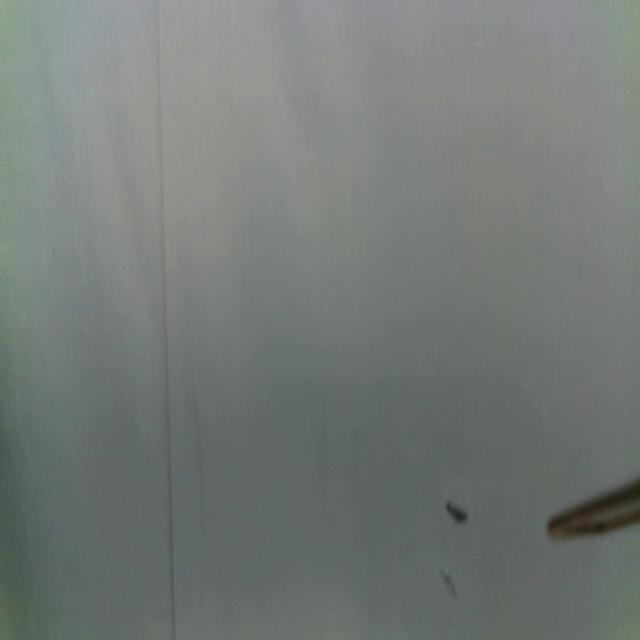crease: (155, 0, 177, 640), (192, 383, 208, 617)
hole: (445, 498, 470, 528), (441, 570, 458, 602)
